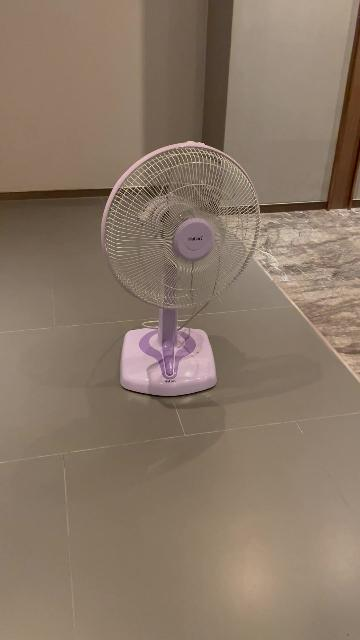Fan: (101, 141, 260, 398)
